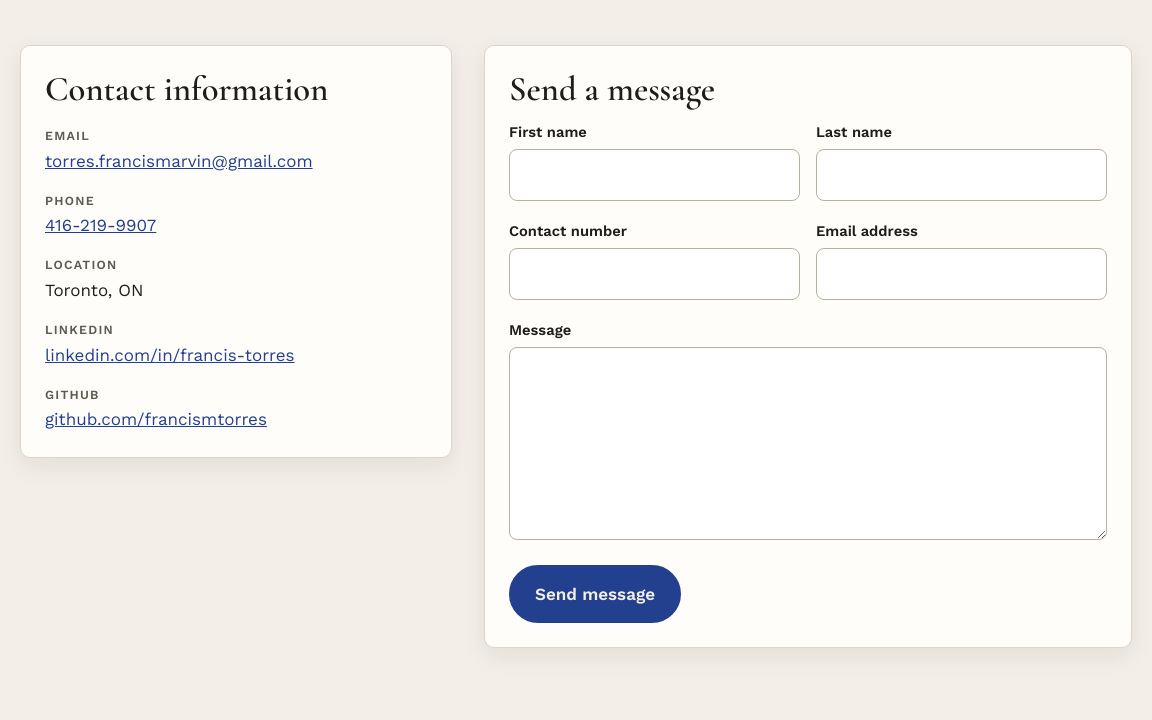
Test: Contact page form › rejects a message that is too short
This screenshot has width=1152, height=720.
(page scrolled)
Type "Hi" into the text box labelled "Message" at x=808, y=443, box left=509, top=347, right=1107, bottom=540
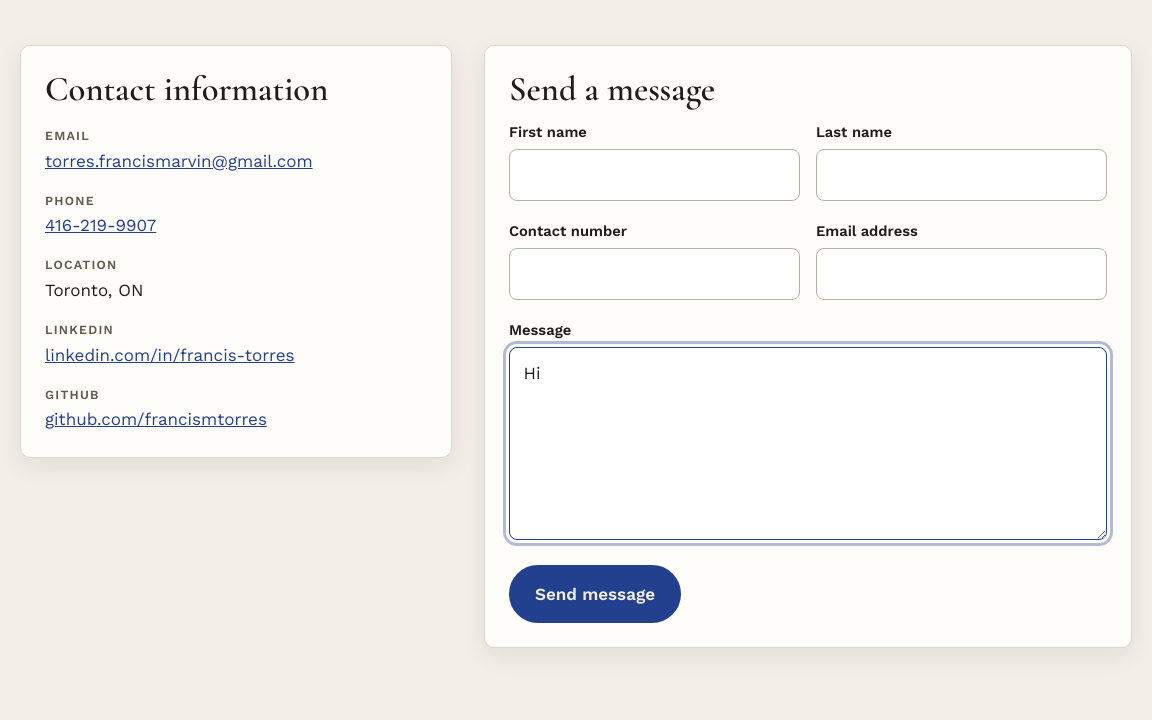
Click the button "Send message" at x=595, y=594, box left=509, top=565, right=681, bottom=623
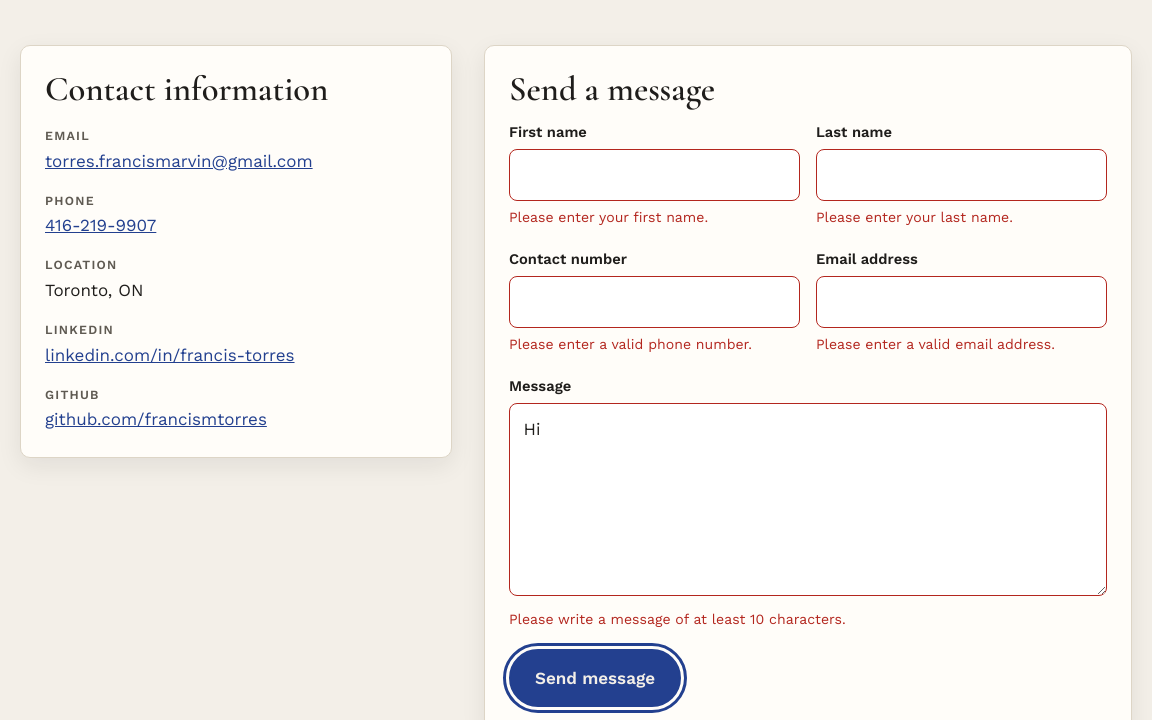
Expected: the text "Please write a message of at least 10 characters." is shown, left=509, top=611, right=846, bottom=627
